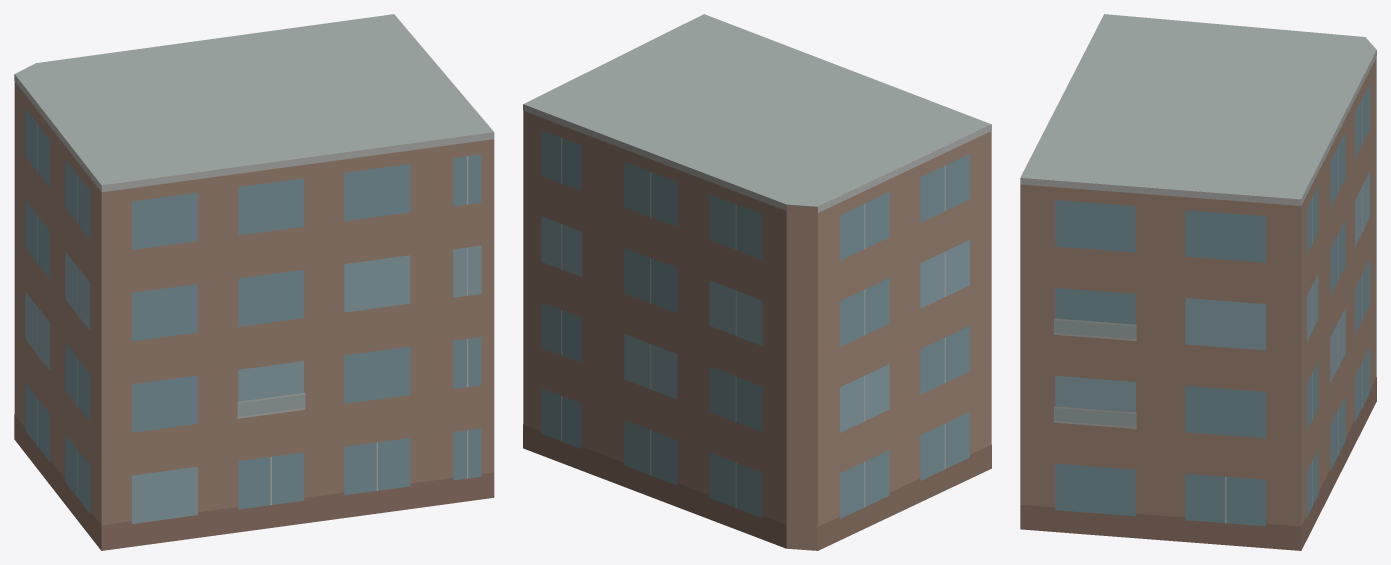
Rendered from survey-upis-32705038.glb.
3 renders of one model, left to right at view 1: azimuth 30°, elevation 25°; view 2: azimuth 150°, elevation 25°; view 3: azimuth 270°, elevation 25°, orthographic. The views are drawn at different scales.
Parts seen in each view (by area): view 1: survey-upis-32705038.tmp; view 2: survey-upis-32705038.tmp; view 3: survey-upis-32705038.tmp.
Boxes of the visible parts, x1,y1,x2,y2 form: survey-upis-32705038.tmp: (14, 14, 494, 550); survey-upis-32705038.tmp: (523, 14, 991, 550); survey-upis-32705038.tmp: (1020, 14, 1376, 550).
Size of the model in its own units: 14.72 by 13 by 11.97.
